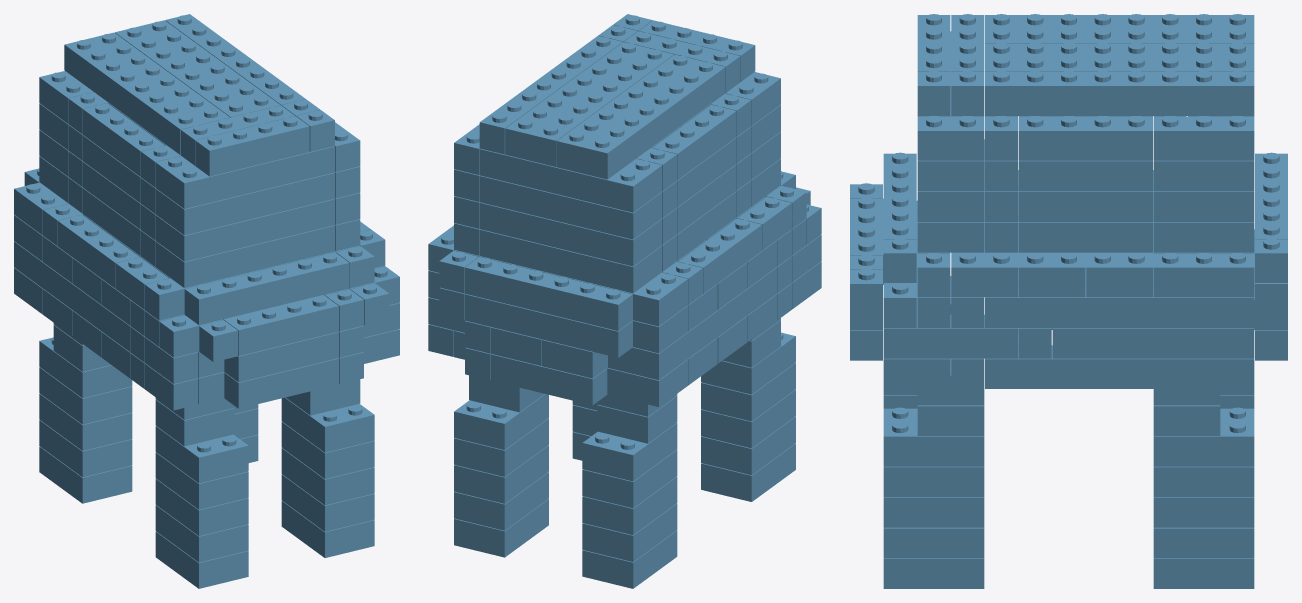
Rendered from 245_train_L5.glb.
The picture shows the model from 3 angles, left to right: view 1: azimuth 30°, elevation 25°; view 2: azimuth 150°, elevation 25°; view 3: azimuth 270°, elevation 25°; orthographic projection. The views are drawn at different scales.
Bounding box in the file's own units: 8.98 × 16.13 × 12.98.
